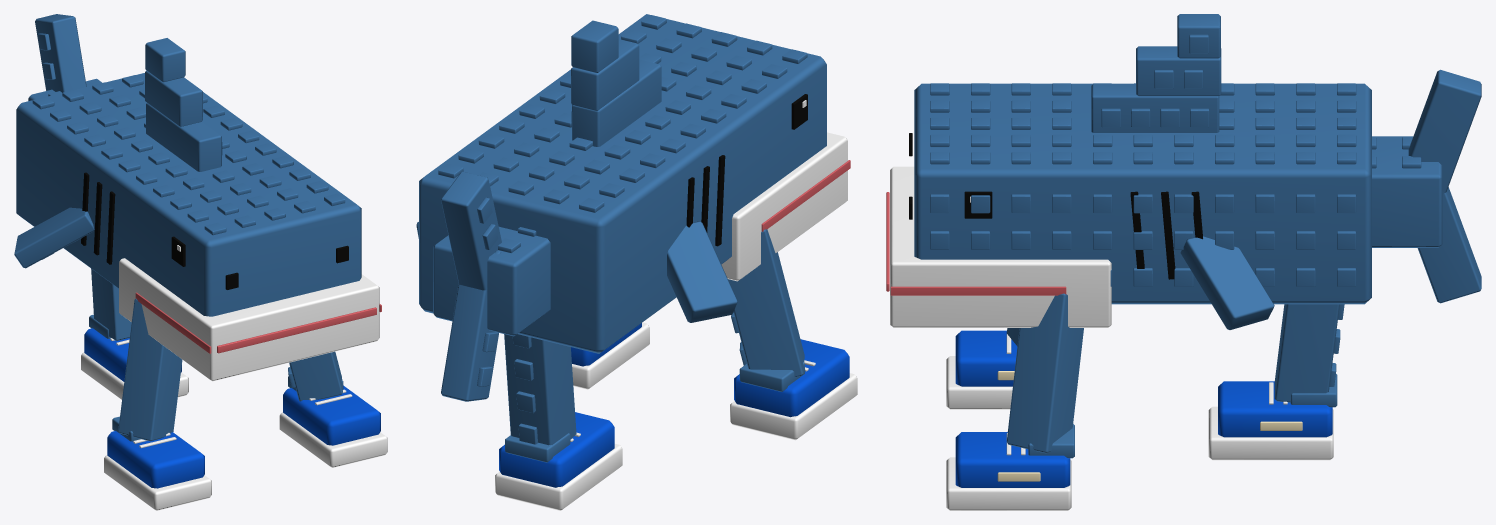
Rendered from Tralalero.glb.
3 views of the same model, side by side, from view 1: azimuth 30°, elevation 25°; view 2: azimuth 150°, elevation 25°; view 3: azimuth 270°, elevation 25° (orthographic). The views are drawn at different scales.
Visible parts, largest first — view 1: Tralalero; view 2: Tralalero; view 3: Tralalero.
Boxes of the visible parts, box(x1,y1,x2,y2) form: Tralalero: box(14, 14, 387, 510); Tralalero: box(416, 14, 857, 510); Tralalero: box(886, 14, 1481, 510).
Size of the model in its own units: 3.64 by 4.62 by 5.86.
Materials: 1 (1 with a texture image).
